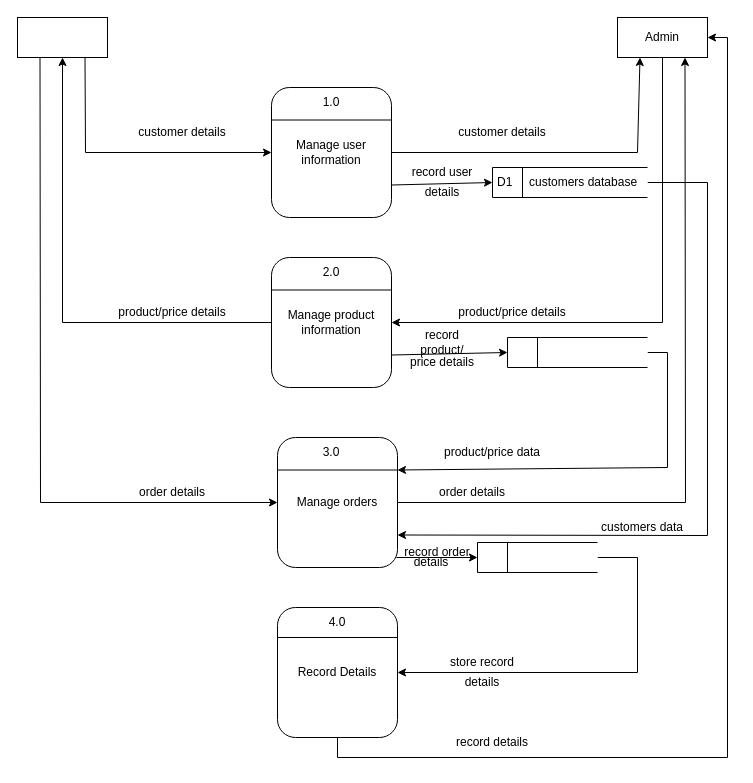
Image size: 753x783. Some labels were removed from this diagram. The shapes that lost their labels are listed below. From the top down, each one's centre as x and y in pixels, then its label:
At point 62,37: "Customer".
At point 577,352: "D2 products database".
At point 537,557: "D3 orders database".
